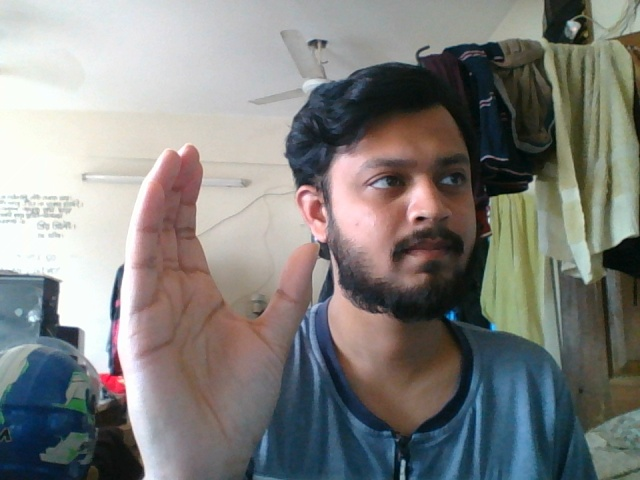o: (119, 137, 328, 480)
